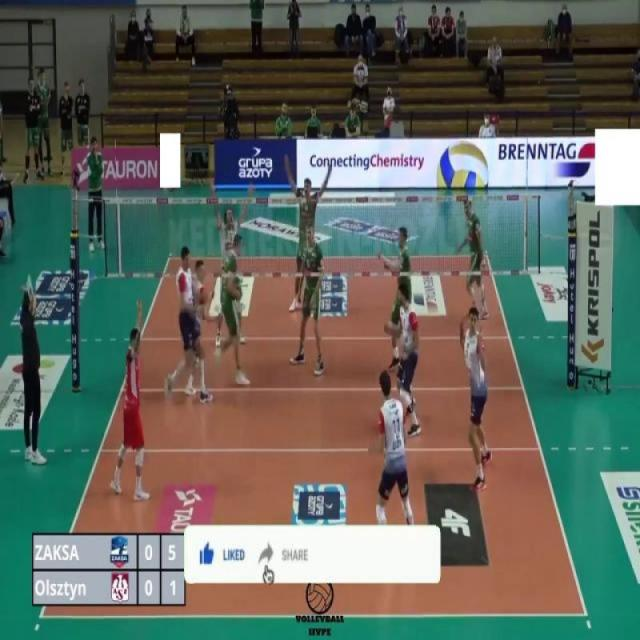volleyball: (436, 138, 490, 190)
